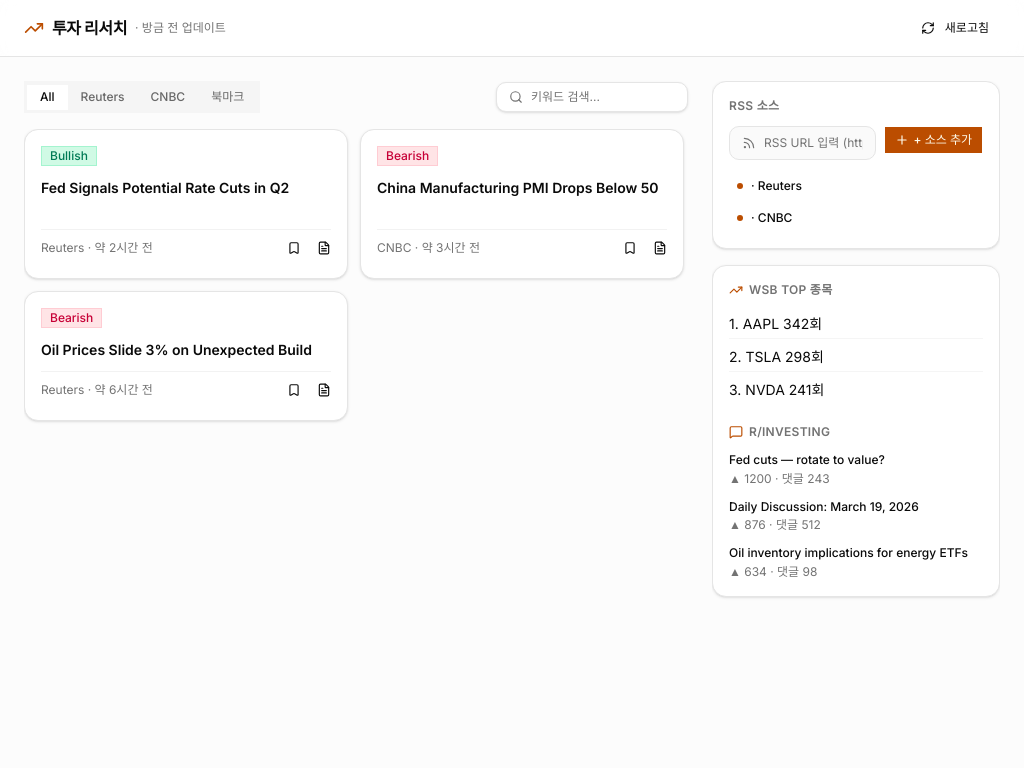
Test case: RSSDASH-009: 기사 메모 추가 › 메모 저장 시 카드에 메모 미리보기가 표시된다
Click the button named "메모" next to "약 2시간 전".
click(321, 248)  # box x1=307 y1=234 x2=335 y2=262
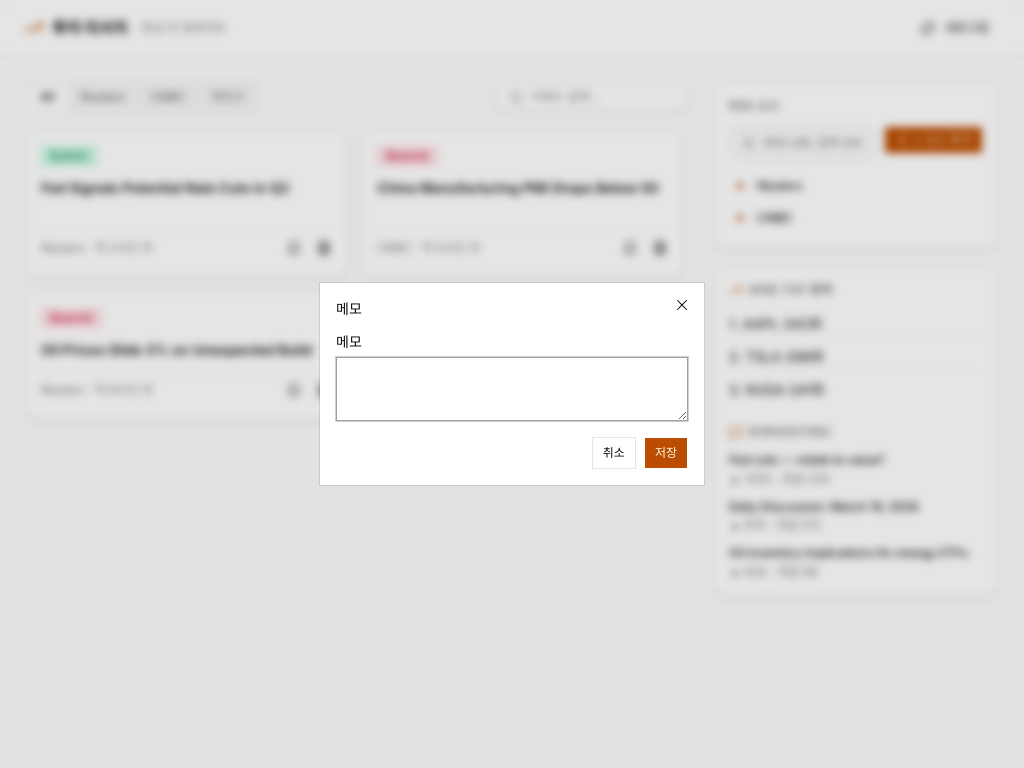
Type "AAPL 실적 발표 주목" into the text box labelled "메모".
click(512, 389); type("AAPL 실적 발표 주목")  # box x1=336 y1=357 x2=688 y2=421
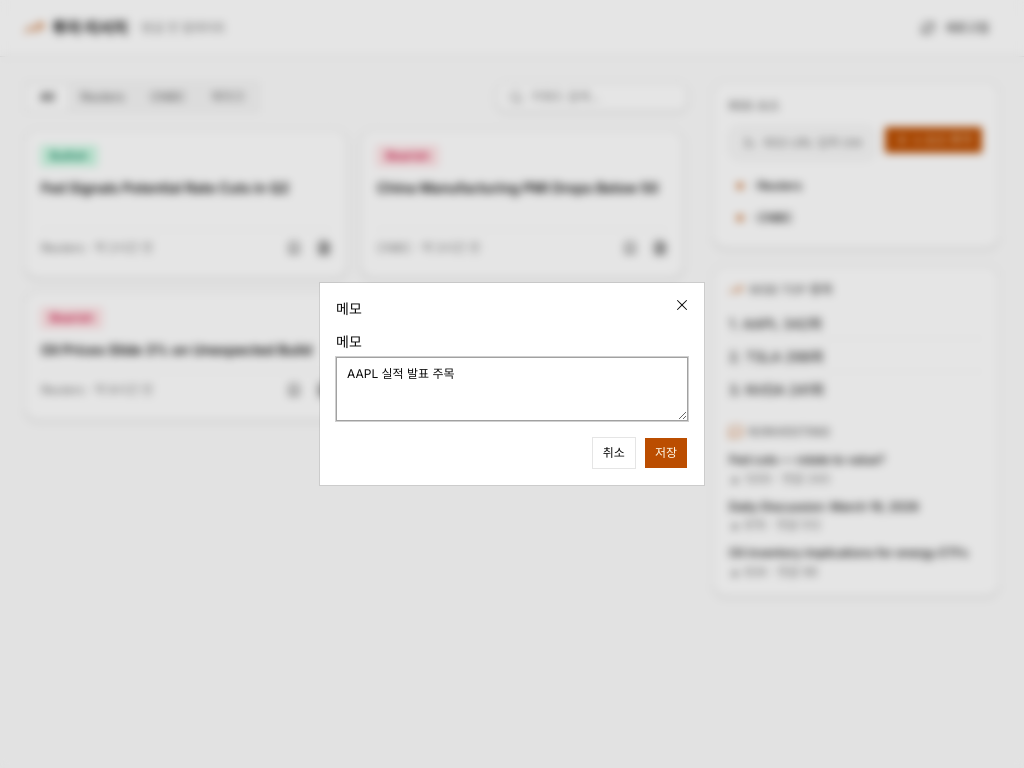
Click the button "저장".
click(666, 453)  # box x1=644 y1=437 x2=688 y2=469
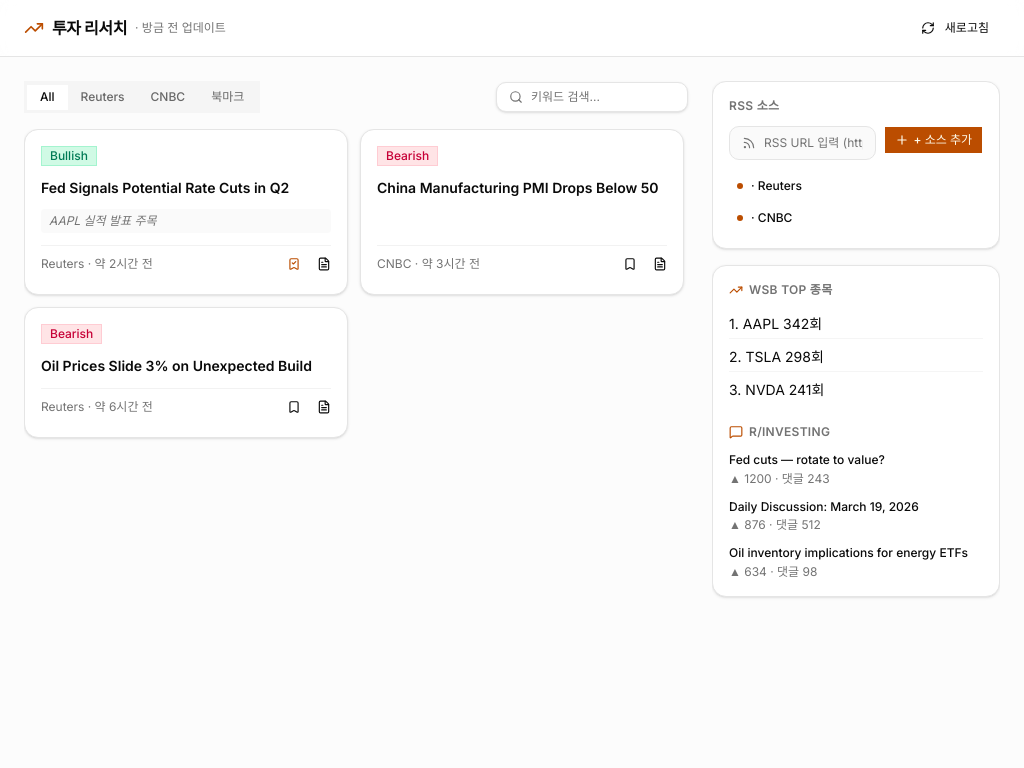
Expected: the text "AAPL 실적 발표 주목" is shown, x1=41 y1=209 x2=331 y2=233
